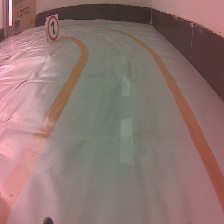limit: (45, 13, 62, 42)
